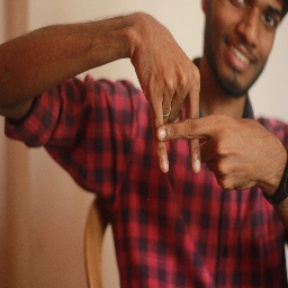H: (119, 71, 235, 183)
